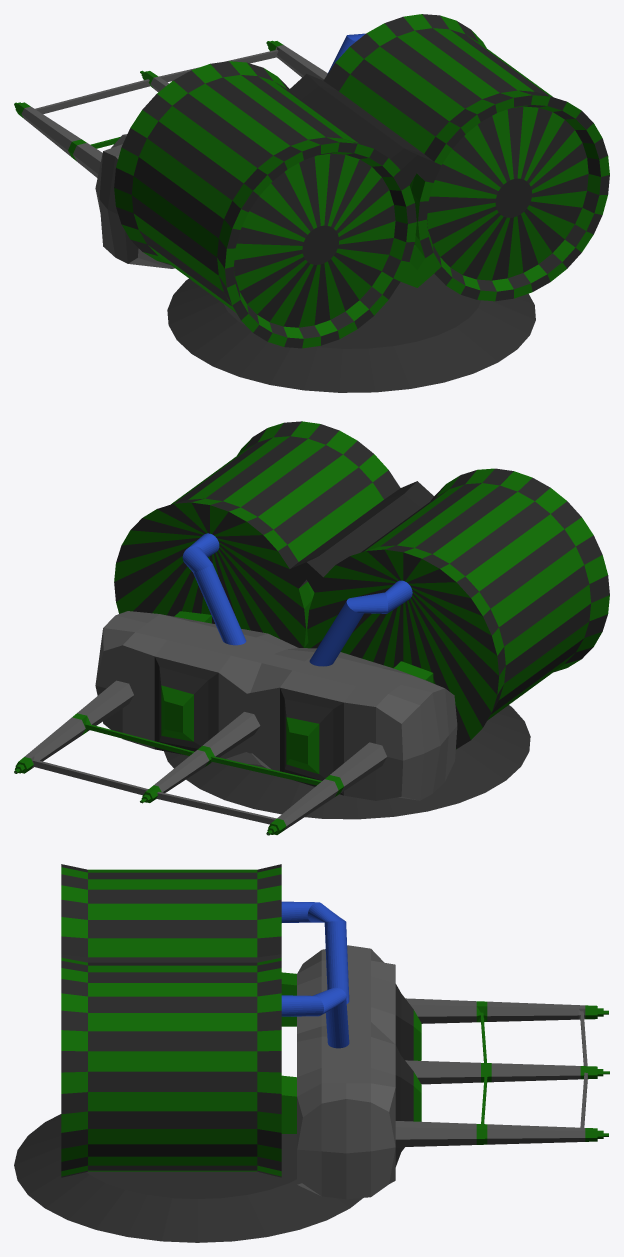
Rendered from lanceAcide.fbx.
The picture shows the model from 3 angles, top to bottom: view 1: azimuth 30°, elevation 25°; view 2: azimuth 150°, elevation 25°; view 3: azimuth 270°, elevation 25°; orthographic projection.
Visible parts, largest first — view 1: Cube, Cylinder; view 2: Cube, Cylinder; view 3: Cube, Cylinder.
Part boxes in pixels (x1,y1,x2,y2): Cube: (14,14,609,348); Cylinder: (167,273,535,392); Cube: (14,421,609,835); Cylinder: (164,705,530,819); Cube: (61,864,609,1199); Cylinder: (14,1114,362,1242).
Size of the model in its own units: 241 by 146 by 325.
